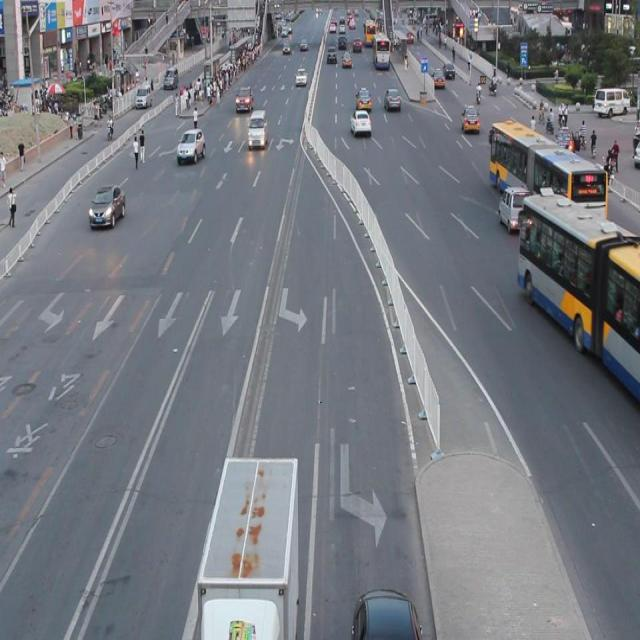bus: (199, 452, 299, 640)
car: (353, 585, 422, 640), (88, 183, 126, 227), (496, 184, 530, 230)
van: (516, 194, 640, 400), (490, 122, 606, 231)
